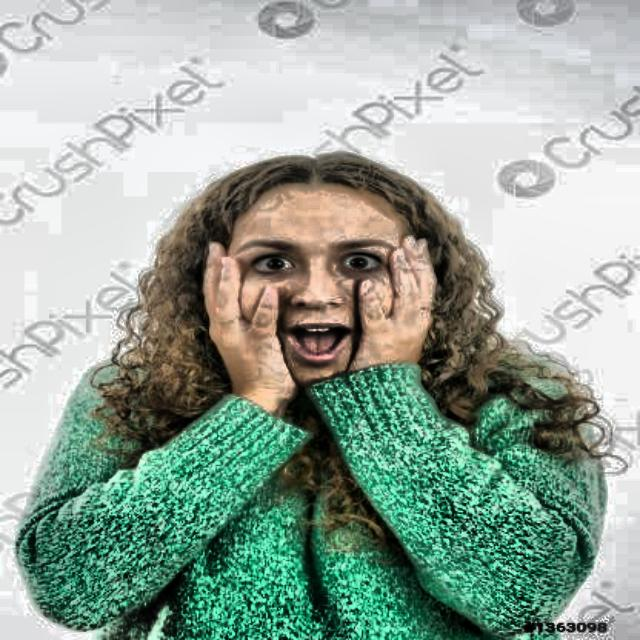surprised: (126, 145, 495, 420)
